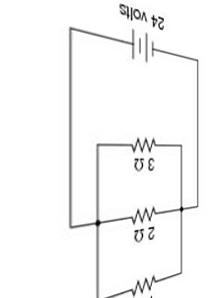resistor: (121, 265, 162, 294), (123, 131, 162, 153), (124, 204, 164, 223)
